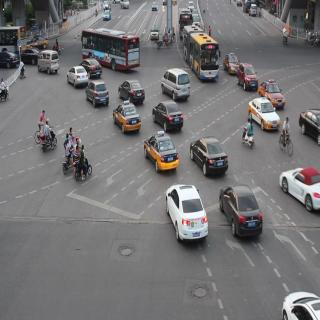BigCar: (79, 14, 145, 71), (180, 17, 224, 85)
Car: (162, 184, 211, 246), (221, 180, 267, 242), (189, 131, 239, 186), (278, 156, 320, 206), (277, 275, 320, 320), (144, 127, 181, 170), (109, 98, 139, 143), (119, 79, 153, 114), (299, 96, 320, 148), (259, 75, 289, 109), (154, 89, 180, 128), (163, 61, 190, 98), (251, 99, 279, 132), (36, 50, 62, 80), (88, 75, 105, 119), (221, 47, 241, 82), (69, 60, 82, 106), (241, 58, 255, 98), (81, 56, 112, 74)
